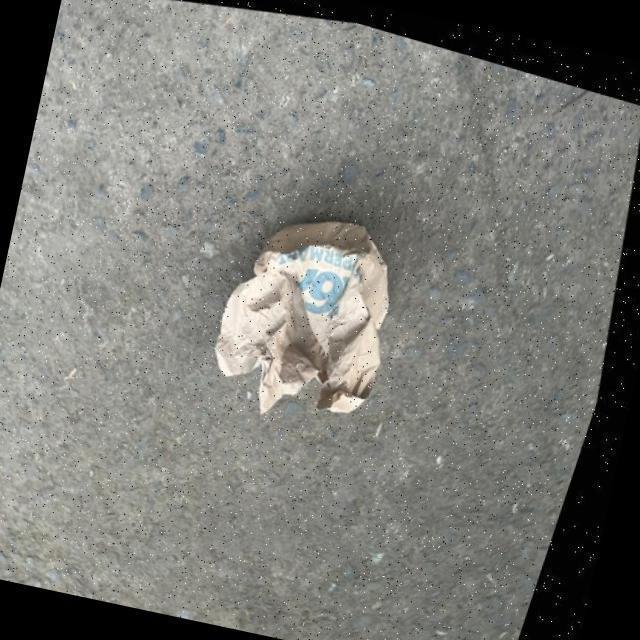Paper_Bag: (178, 175, 444, 453)
